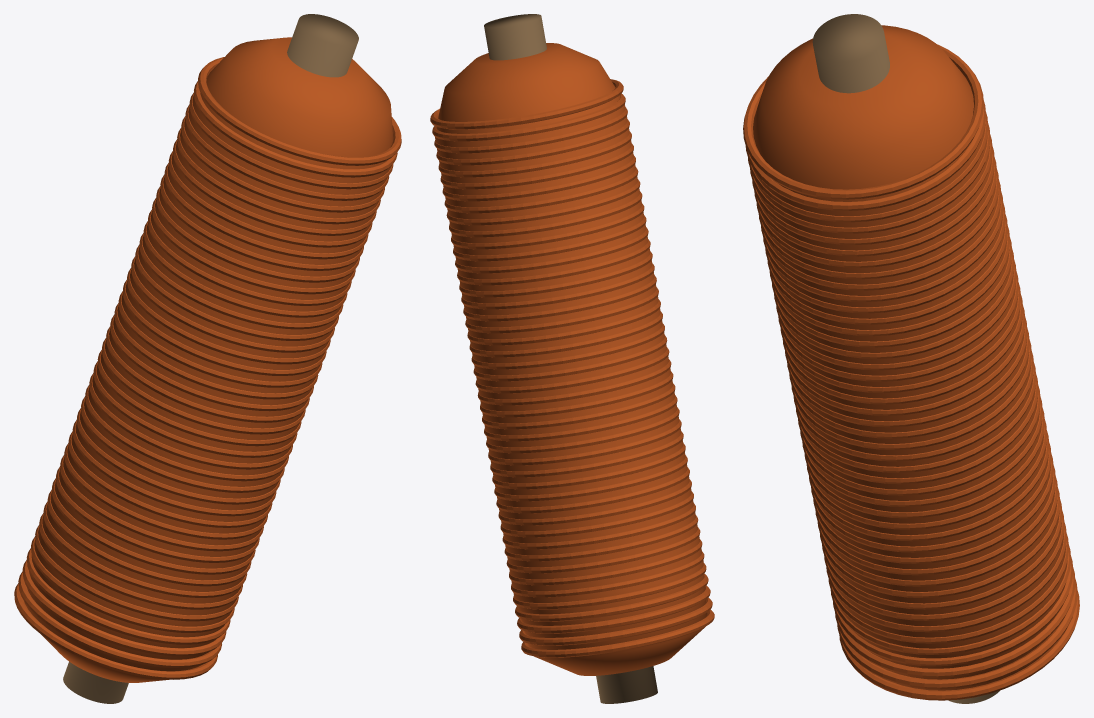
3 views of the same model, side by side, from view 1: azimuth 30°, elevation 25°; view 2: azimuth 150°, elevation 25°; view 3: azimuth 270°, elevation 25° (orthographic). The views are drawn at different scales.
Visible parts, largest first — view 1: TI015 / thick combed angora yarn, TI015 / spool core, TI015 / wound yarn ridge.044, TI015 / wound yarn ridge, TI015 / wound yarn ridge.001, TI015 / wound yarn ridge.043, TI015 / wound yarn ridge.002, TI015 / wound yarn ridge.003, TI015 / wound yarn ridge.004, TI015 / wound yarn ridge.028, TI015 / wound yarn ridge.009, TI015 / wound yarn ridge.040 (+35 smaller); view 2: TI015 / thick combed angora yarn, TI015 / spool core, TI015 / wound yarn ridge.044, TI015 / wound yarn ridge, TI015 / wound yarn ridge.001, TI015 / wound yarn ridge.002, TI015 / wound yarn ridge.043, TI015 / wound yarn ridge.003, TI015 / wound yarn ridge.004, TI015 / wound yarn ridge.030, TI015 / wound yarn ridge.014, TI015 / wound yarn ridge.015 (+35 smaller); view 3: TI015 / thick combed angora yarn, TI015 / spool core, TI015 / wound yarn ridge.044, TI015 / wound yarn ridge, TI015 / wound yarn ridge.001, TI015 / wound yarn ridge.002, TI015 / wound yarn ridge.043, TI015 / wound yarn ridge.003, TI015 / wound yarn ridge.004, TI015 / wound yarn ridge.010, TI015 / wound yarn ridge.018, TI015 / wound yarn ridge.013 (+35 smaller).
Part boxes in pixels (box(x1,y1,x2,y2)): TI015 / thick combed angora yarn: box(24, 37, 393, 682); TI015 / spool core: box(63, 14, 358, 703); TI015 / wound yarn ridge.044: box(198, 57, 401, 165); TI015 / wound yarn ridge: box(14, 583, 217, 679); TI015 / wound yarn ridge.001: box(18, 571, 221, 667); TI015 / wound yarn ridge.043: box(194, 81, 397, 177); TI015 / wound yarn ridge.002: box(22, 559, 226, 656); TI015 / wound yarn ridge.003: box(26, 548, 230, 644); TI015 / wound yarn ridge.004: box(31, 536, 234, 632); TI015 / wound yarn ridge.028: box(131, 256, 334, 352); TI015 / wound yarn ridge.009: box(52, 478, 255, 574); TI015 / wound yarn ridge.040: box(181, 116, 384, 212); TI015 / thick combed angora yarn: box(435, 43, 706, 675); TI015 / spool core: box(484, 14, 657, 703); TI015 / wound yarn ridge.044: box(430, 79, 623, 129); TI015 / wound yarn ridge: box(521, 609, 714, 657); TI015 / wound yarn ridge.001: box(519, 597, 712, 645); TI015 / wound yarn ridge.002: box(517, 585, 710, 633); TI015 / wound yarn ridge.043: box(432, 93, 625, 141); TI015 / wound yarn ridge.003: box(515, 573, 708, 621); TI015 / wound yarn ridge.004: box(513, 563, 706, 609); TI015 / wound yarn ridge.030: box(459, 251, 652, 297); TI015 / wound yarn ridge.014: box(492, 443, 685, 489); TI015 / wound yarn ridge.015: box(490, 431, 683, 477); TI015 / thick combed angora yarn: box(752, 25, 1067, 690); TI015 / spool core: box(812, 14, 999, 703); TI015 / wound yarn ridge.044: box(743, 44, 983, 199); TI015 / wound yarn ridge: box(839, 590, 1079, 700); TI015 / wound yarn ridge.001: box(837, 579, 1077, 689); TI015 / wound yarn ridge.002: box(835, 567, 1075, 677); TI015 / wound yarn ridge.043: box(745, 100, 985, 210); TI015 / wound yarn ridge.003: box(833, 556, 1073, 666); TI015 / wound yarn ridge.004: box(830, 544, 1071, 654); TI015 / wound yarn ridge.010: box(817, 476, 1057, 586); TI015 / wound yarn ridge.018: box(800, 384, 1040, 495); TI015 / wound yarn ridge.013: box(811, 442, 1051, 552).
Size of the model in its own units: 1.51 by 3.03 by 1.21.
